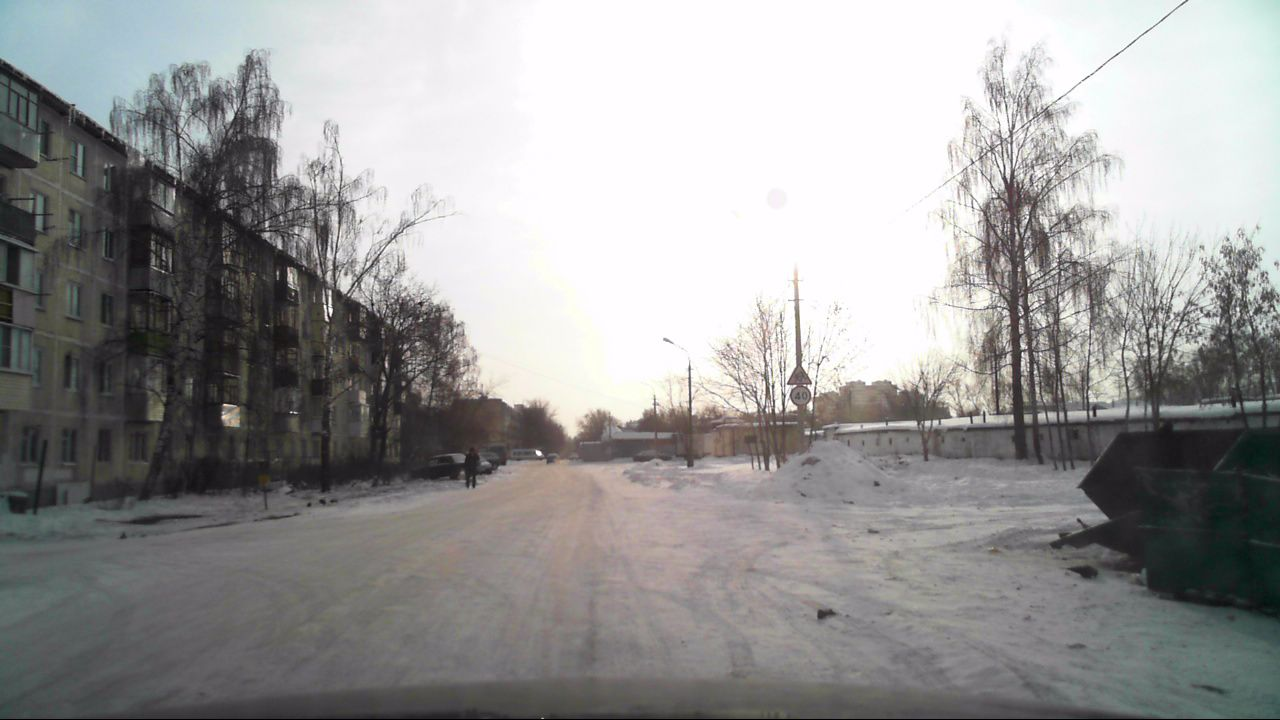speed_warning_40: (790, 386, 810, 405)
